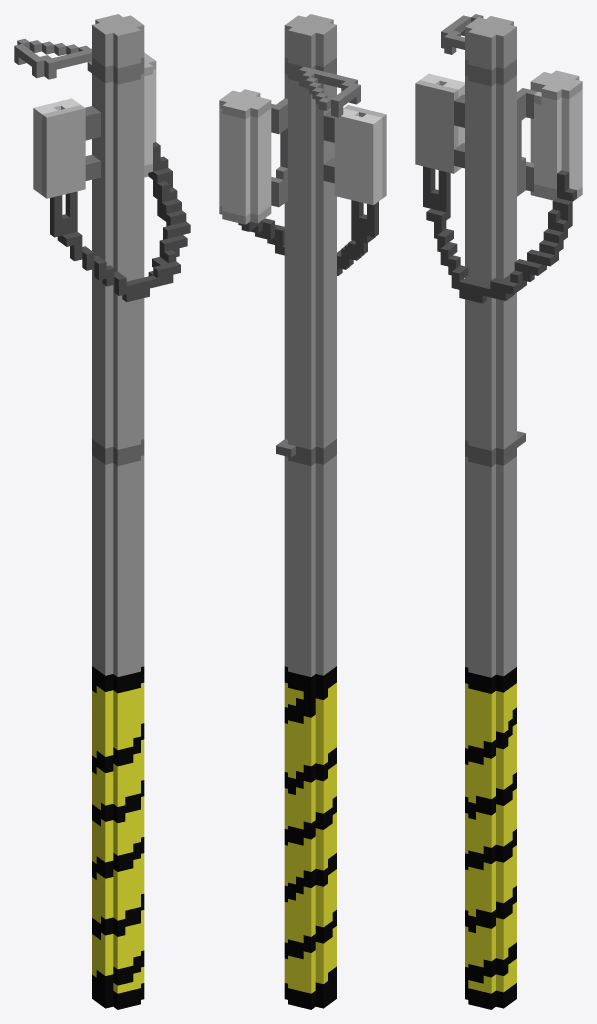
Rendered from dentyuu.obj.
The picture shows the model from 3 angles, left to right: view 1: azimuth 30°, elevation 25°; view 2: azimuth 150°, elevation 25°; view 3: azimuth 330°, elevation 25°; orthographic projection.
Bounding box in the file's own units: 1.8 × 12 × 1.4.
Materials: 1 (1 with a texture image).
